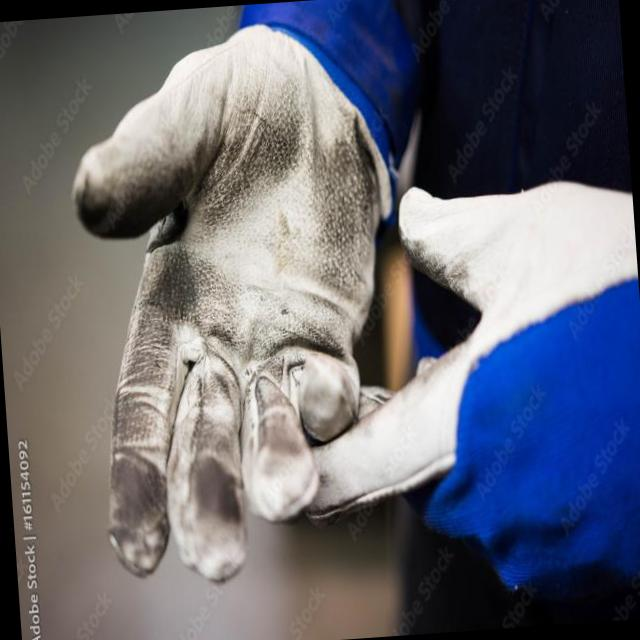Gloves: (31, 26, 396, 614), (299, 144, 640, 532)
